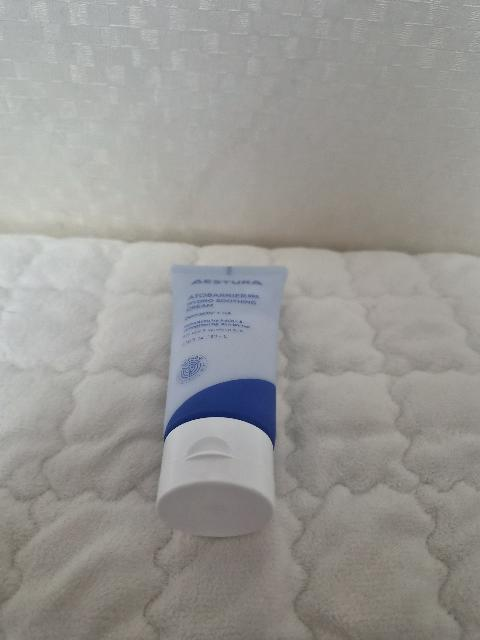handcream: (156, 263, 288, 537)
